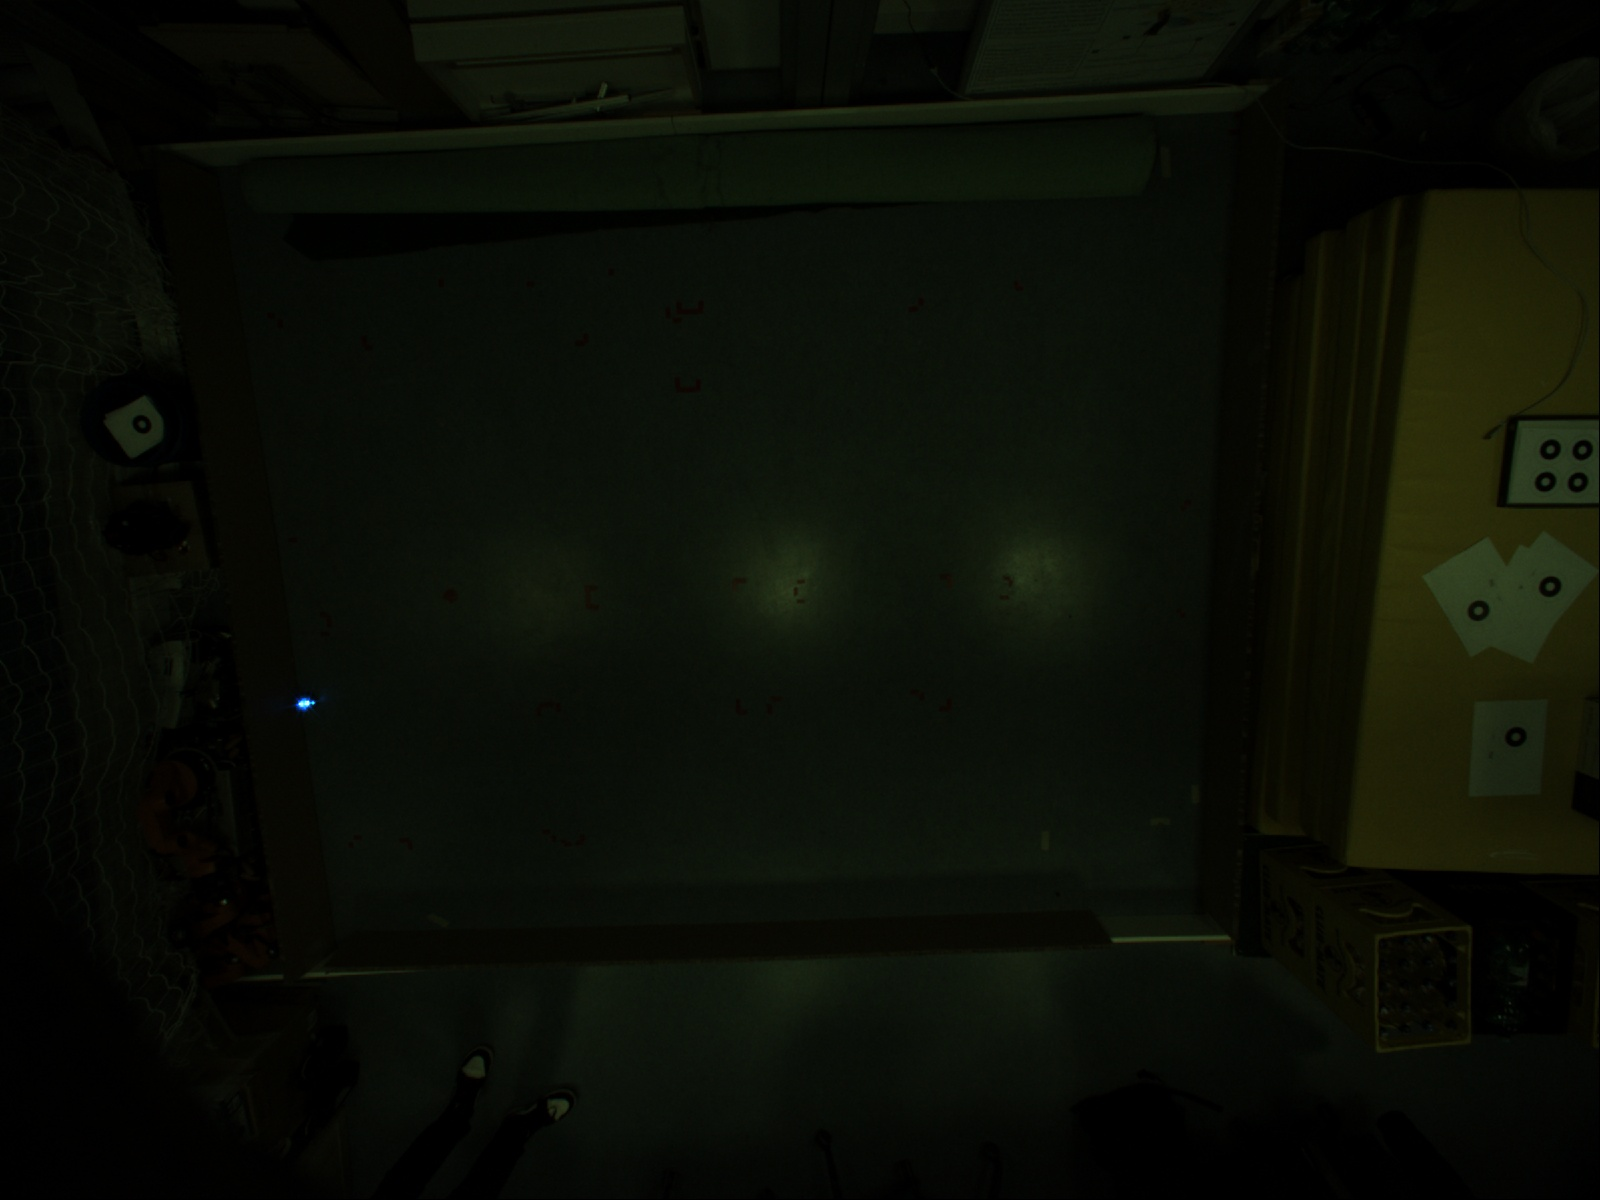sphero: (290, 691, 317, 718)
